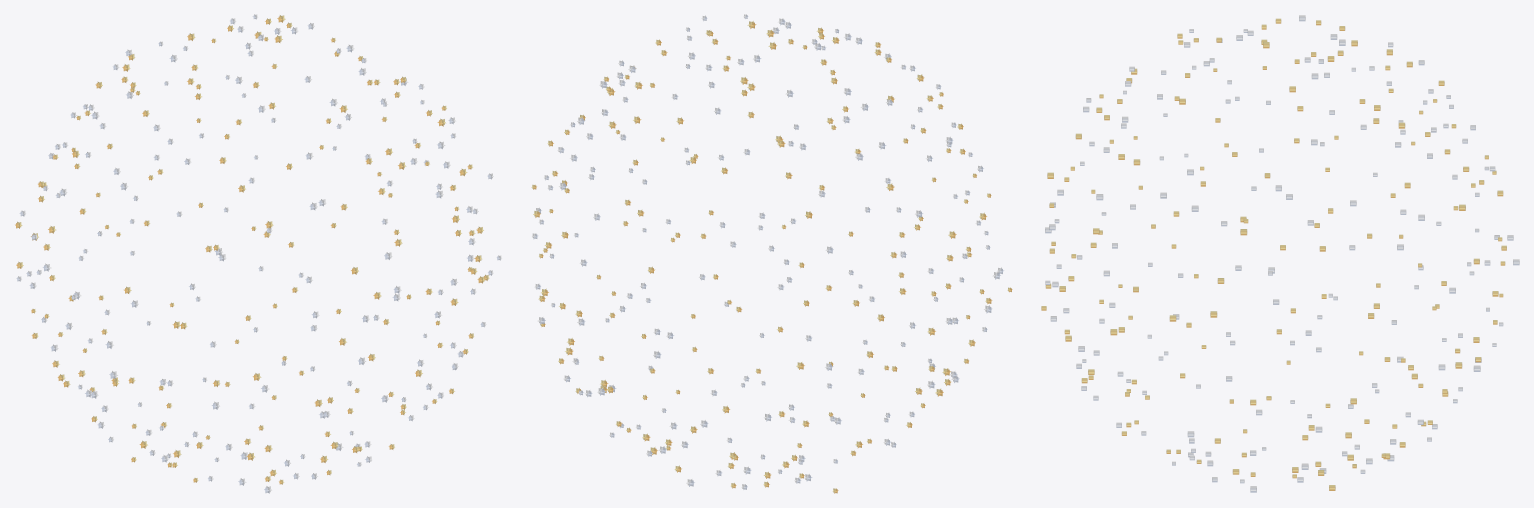
File: fw_peony_green_gold_c.glb
The picture shows the model from 3 angles, left to right: view 1: azimuth 30°, elevation 25°; view 2: azimuth 150°, elevation 25°; view 3: azimuth 270°, elevation 25°; orthographic projection.
Visible parts, largest first — view 1: spire; view 2: spire; view 3: spire.
Part boxes in pixels (left/top/right/bottom): spire: left=15, top=14, right=501, bottom=493; spire: left=531, top=14, right=1012, bottom=493; spire: left=1041, top=15, right=1519, bottom=492.
Size of the model in its own units: 24.03 by 23.5 by 23.42.
2 materials, 2 textured.
